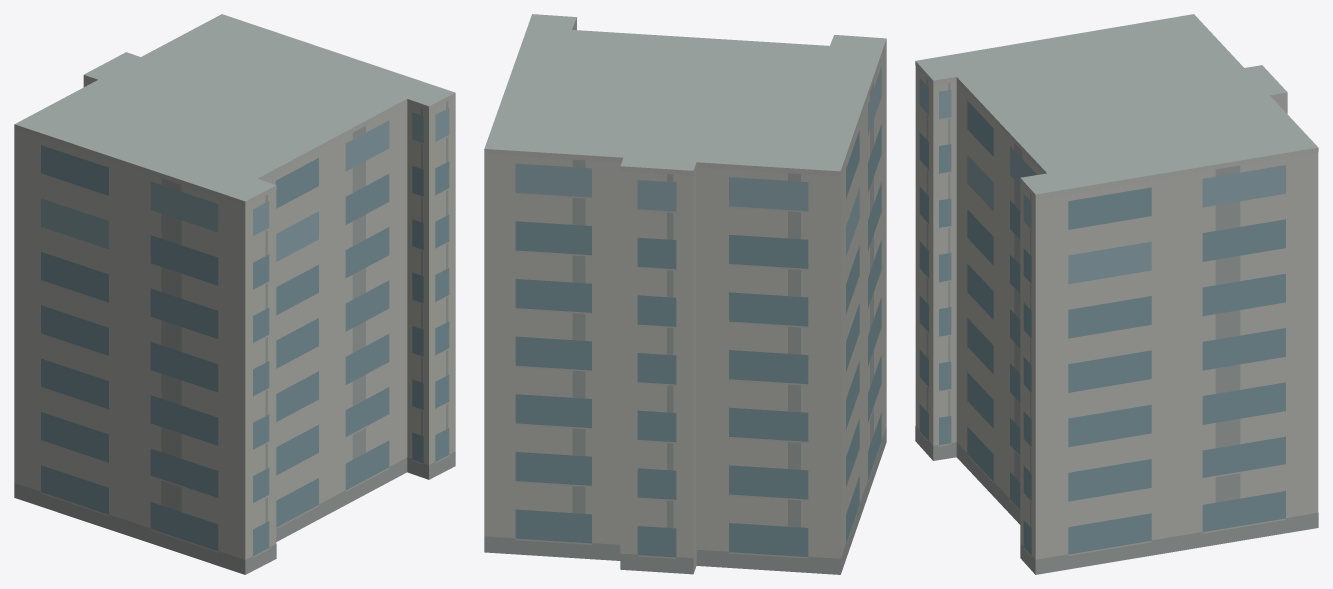
The model's file is survey-upis-32850418.glb.
3 views of the same model, side by side, from view 1: azimuth 30°, elevation 25°; view 2: azimuth 150°, elevation 25°; view 3: azimuth 270°, elevation 25° (orthographic). The views are drawn at different scales.
Visible parts, largest first — view 1: survey-upis-32850418.tmp; view 2: survey-upis-32850418.tmp; view 3: survey-upis-32850418.tmp.
Boxes of the visible parts, box(x1,y1,x2,y2) form: survey-upis-32850418.tmp: box(14, 14, 455, 574); survey-upis-32850418.tmp: box(484, 14, 886, 574); survey-upis-32850418.tmp: box(915, 14, 1318, 574).
Bounding box in the file's own units: 19.35 × 19 × 18.26.
